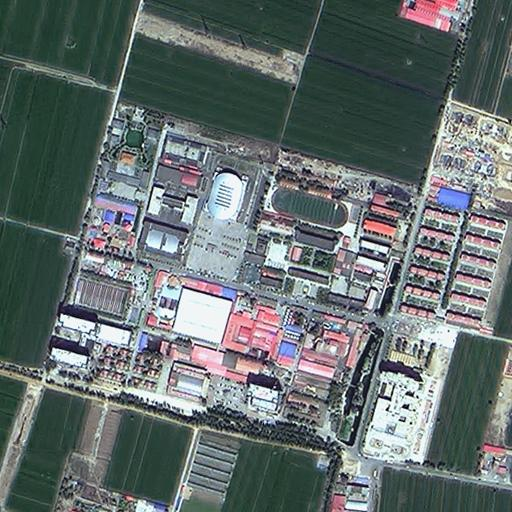school: (249, 181, 407, 314)
